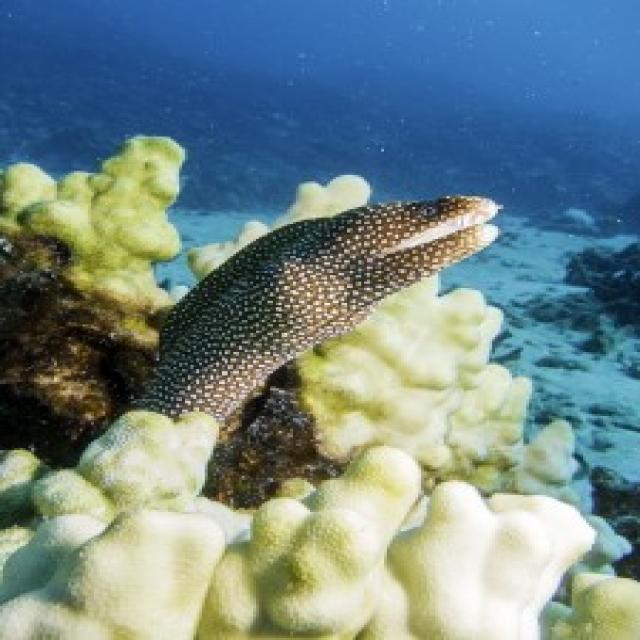Bleached: (186, 197, 496, 449), (277, 280, 530, 485), (1, 413, 226, 639), (21, 138, 180, 349), (251, 449, 419, 639), (394, 481, 593, 639), (436, 289, 530, 492), (1, 163, 92, 236)
